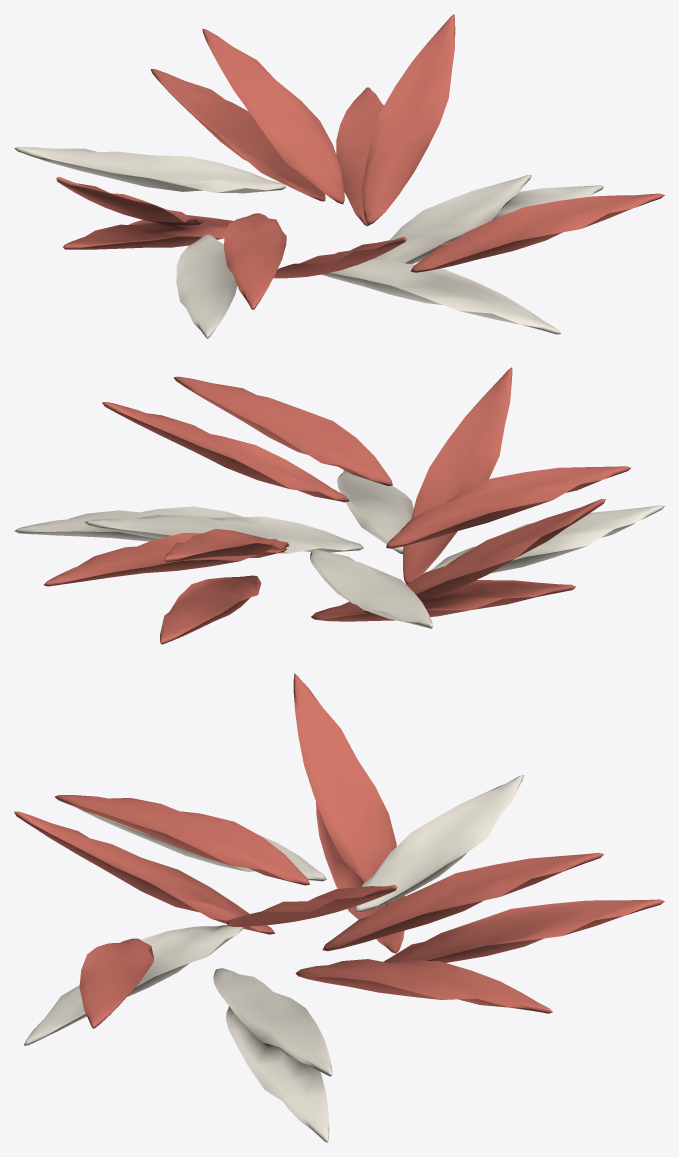
Rendered from prep_shreds.glb.
3 views of the same model, one above another, from view 1: azimuth 30°, elevation 25°; view 2: azimuth 150°, elevation 25°; view 3: azimuth 270°, elevation 25° (orthographic). The views are drawn at different scales.
Visible parts, largest first — view 1: PART; view 2: PART; view 3: PART.
Part boxes in pixels (box(x1,y1,x2,y2)): PART: box(14, 14, 664, 338); PART: box(14, 367, 664, 644); PART: box(14, 673, 664, 1142).
Size of the model in its own units: 0.113 by 0.0345 by 0.1042.
